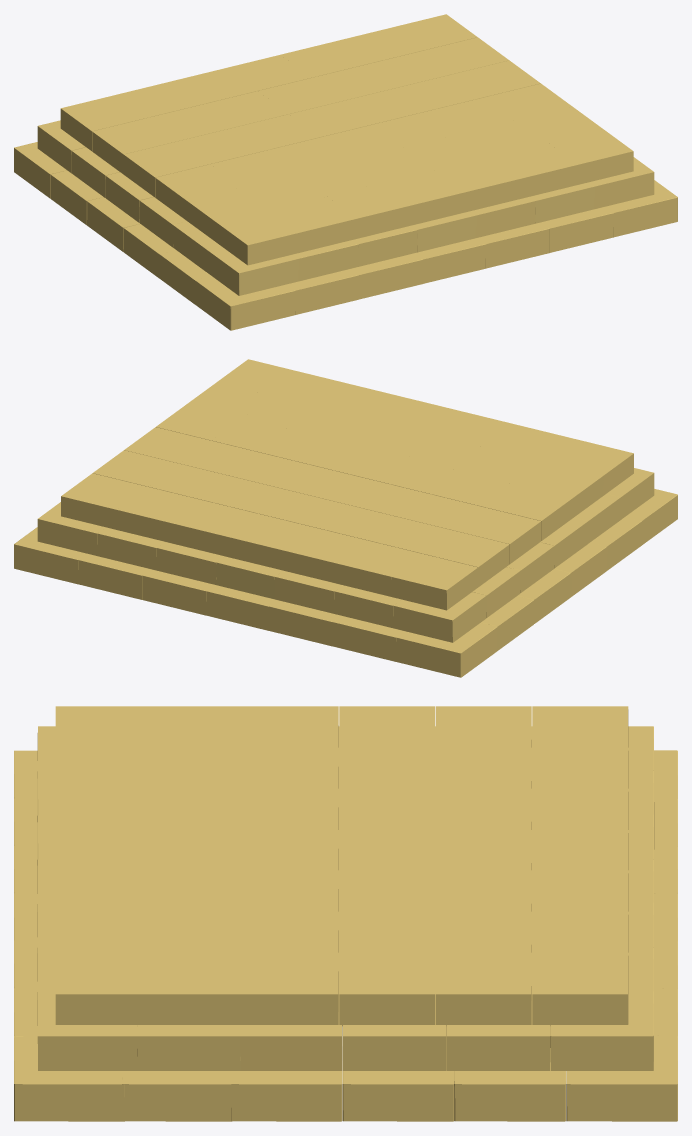
The model's file is Temple1.fbx.
The picture shows the model from 3 angles, top to bottom: view 1: azimuth 30°, elevation 25°; view 2: azimuth 150°, elevation 25°; view 3: azimuth 270°, elevation 25°; orthographic projection. The views are drawn at different scales.
Parts seen in each view (by area): view 1: Cube.090_Cube.095; view 2: Cube.090_Cube.095; view 3: Cube.090_Cube.095.
Boxes of the visible parts, <box> form: Cube.090_Cube.095: <box>14,14,677,330</box>; Cube.090_Cube.095: <box>14,359,677,677</box>; Cube.090_Cube.095: <box>14,706,677,1121</box>.
Size of the model in its own units: 788 by 115 by 662.
